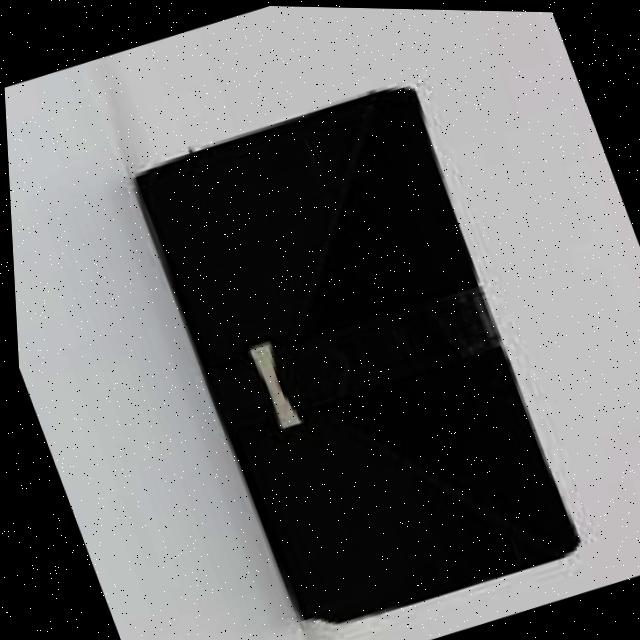cuzdan: (100, 59, 602, 640)
